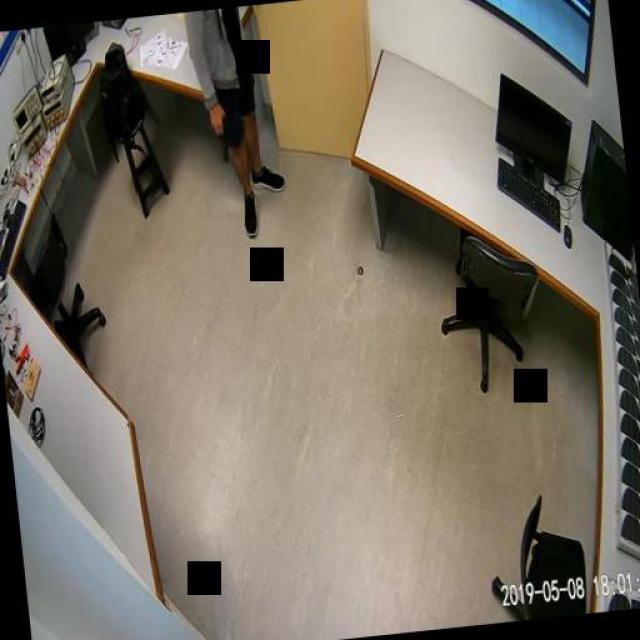gun: (211, 111, 231, 162)
